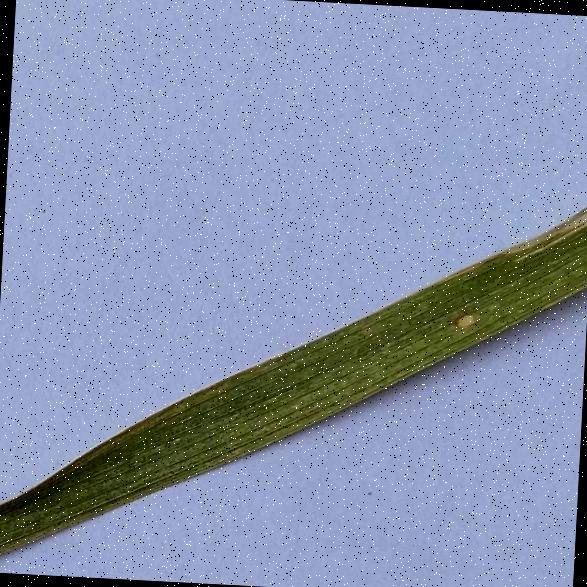Leaf_smut: (443, 294, 480, 332)
